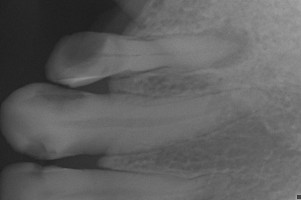Furcation Involvement: (200, 25, 253, 68)
